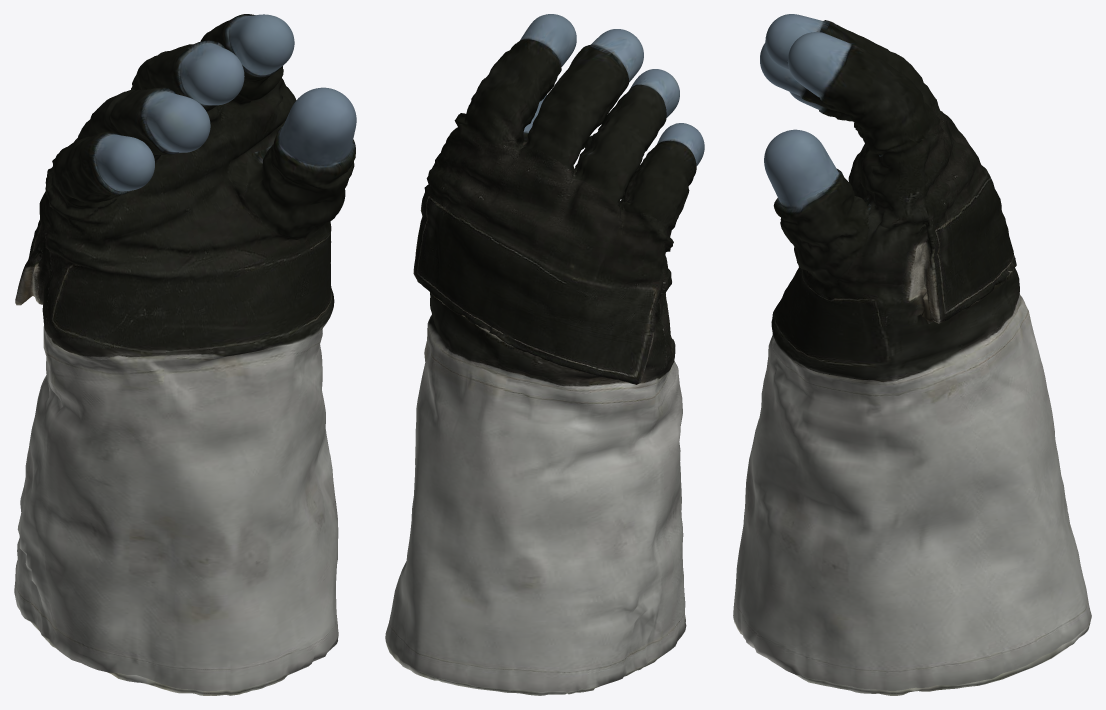
The model's file is right.glb.
3 renders of one model, left to right at view 1: azimuth 30°, elevation 25°; view 2: azimuth 150°, elevation 25°; view 3: azimuth 270°, elevation 25°, orthographic. The views are drawn at different scales.
Size of the model in its own units: 135 by 300 by 159.
Materials: 1 (1 with a texture image).
